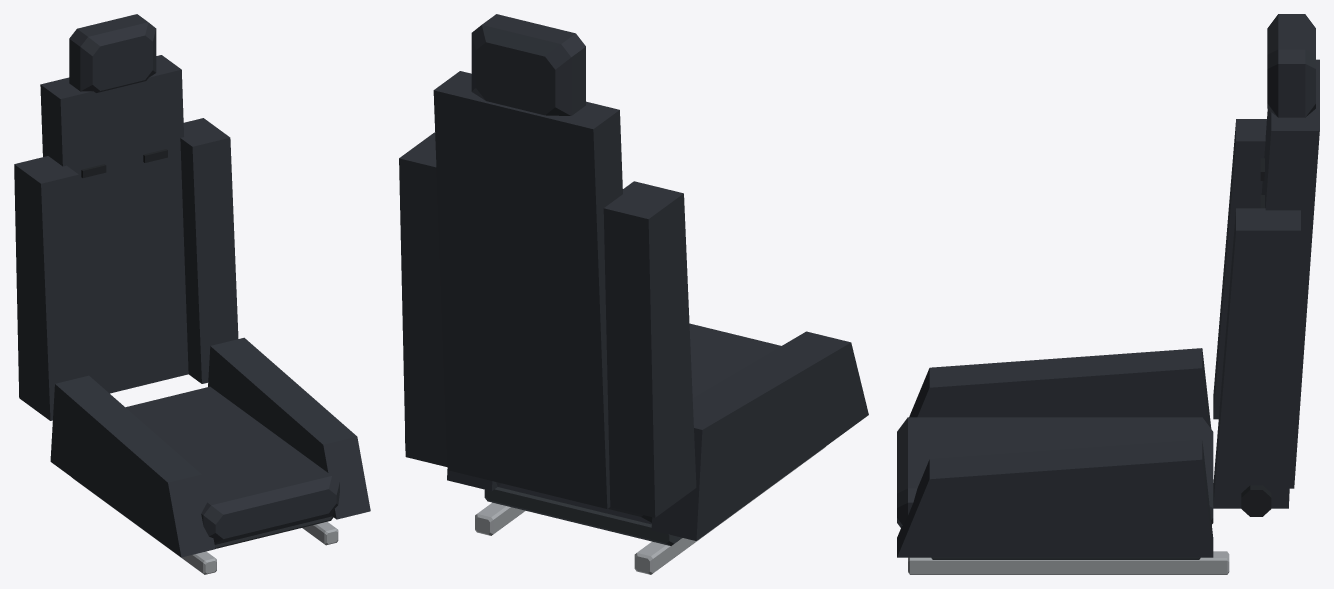
File: brute_500.glb
The picture shows the model from 3 angles, left to right: view 1: azimuth 30°, elevation 25°; view 2: azimuth 150°, elevation 25°; view 3: azimuth 270°, elevation 25°; orthographic projection. The views are drawn at different scales.
Parts seen in each view (by area): view 1: model; view 2: model; view 3: model.
Boxes of the visible parts, left/top/right/bottom form: model: left=14, top=14, right=370, bottom=574; model: left=399, top=14, right=868, bottom=574; model: left=897, top=14, right=1319, bottom=574.
Bounding box in the file's own units: 0.5088 × 1.03 × 0.7824.
3 materials, 1 textured.
